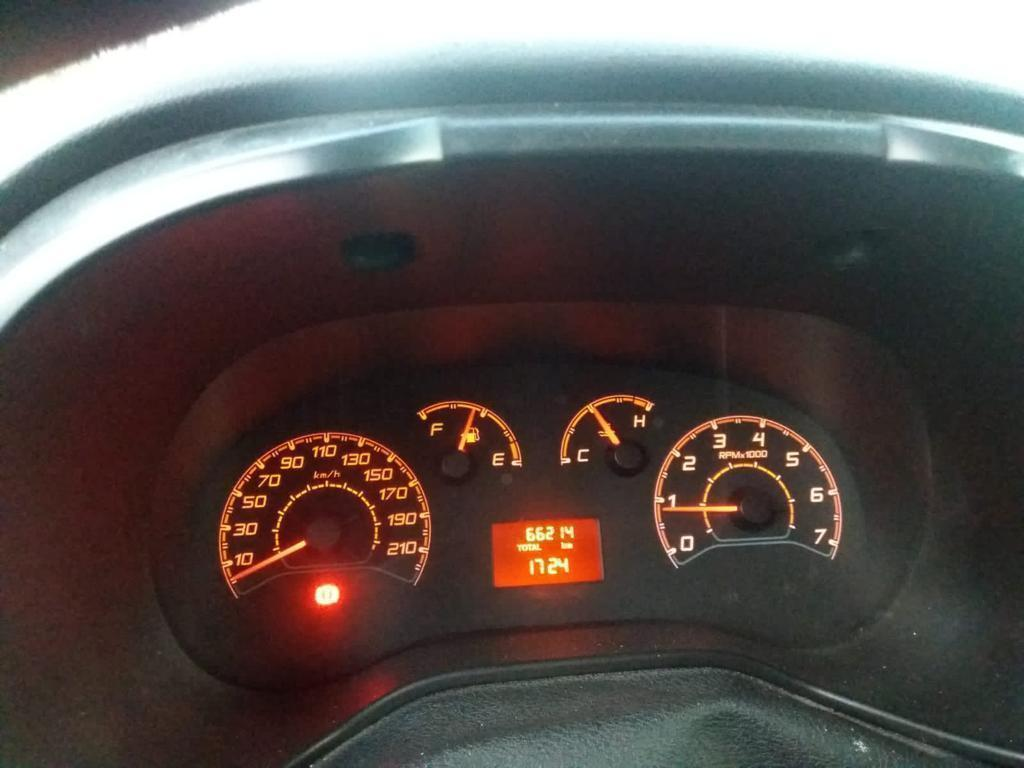1: (528, 558, 534, 576), (558, 525, 564, 539)
2: (547, 556, 558, 574), (545, 525, 555, 540)
4: (558, 556, 570, 573), (564, 524, 575, 539)
6: (535, 525, 545, 541), (525, 526, 535, 541)
7: (534, 558, 545, 574)
X: (536, 542, 542, 551), (566, 542, 573, 549), (560, 541, 566, 549), (516, 544, 522, 552), (522, 544, 528, 551), (532, 543, 536, 551), (528, 544, 532, 551)
odometer: (486, 513, 607, 590)
